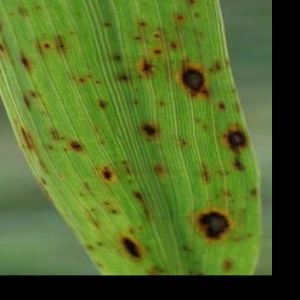Bacterial_Leaf_Blight: (188, 208, 239, 244), (176, 56, 212, 100), (115, 230, 145, 264), (136, 117, 165, 146), (133, 52, 159, 80), (194, 157, 217, 186), (224, 127, 251, 151), (14, 47, 37, 72), (17, 121, 34, 153), (46, 122, 65, 145), (66, 136, 87, 156), (98, 163, 116, 185), (53, 33, 69, 57), (230, 156, 248, 174), (151, 158, 166, 178), (213, 98, 231, 114), (219, 256, 237, 272), (20, 92, 33, 113), (87, 214, 103, 230), (95, 97, 111, 112), (129, 188, 145, 203), (188, 8, 206, 20), (154, 97, 169, 111), (248, 184, 261, 199), (166, 39, 181, 52), (173, 9, 186, 24), (16, 3, 29, 18), (146, 262, 161, 275), (212, 59, 224, 75), (83, 241, 97, 254), (136, 18, 151, 30), (118, 71, 131, 84), (151, 47, 166, 58), (188, 266, 206, 275), (177, 137, 190, 149), (101, 19, 116, 29), (112, 51, 124, 63), (37, 176, 49, 188), (183, 0, 199, 9), (233, 100, 242, 116), (130, 97, 143, 108), (109, 207, 121, 218), (44, 142, 57, 152), (42, 40, 53, 51), (28, 88, 39, 99), (91, 77, 103, 87), (131, 34, 146, 42), (32, 2, 44, 12), (142, 243, 154, 253), (76, 75, 87, 85), (95, 239, 106, 249), (93, 260, 105, 269), (124, 177, 136, 186), (179, 242, 191, 251), (0, 40, 8, 53), (60, 146, 71, 155), (98, 137, 107, 148), (67, 28, 76, 38), (101, 199, 111, 208), (200, 123, 210, 132), (127, 226, 137, 235), (73, 9, 83, 18), (158, 266, 168, 275), (228, 86, 239, 94), (153, 31, 162, 40), (192, 116, 202, 124), (88, 205, 98, 213), (137, 223, 146, 231), (246, 231, 255, 239), (78, 191, 86, 199), (8, 10, 16, 18), (69, 75, 78, 82), (40, 30, 47, 38), (206, 67, 214, 74), (41, 99, 48, 107), (206, 198, 212, 204), (215, 193, 221, 199), (230, 198, 236, 204)
